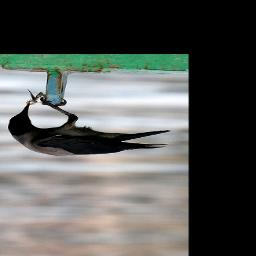Crow: (7, 97, 172, 157)
